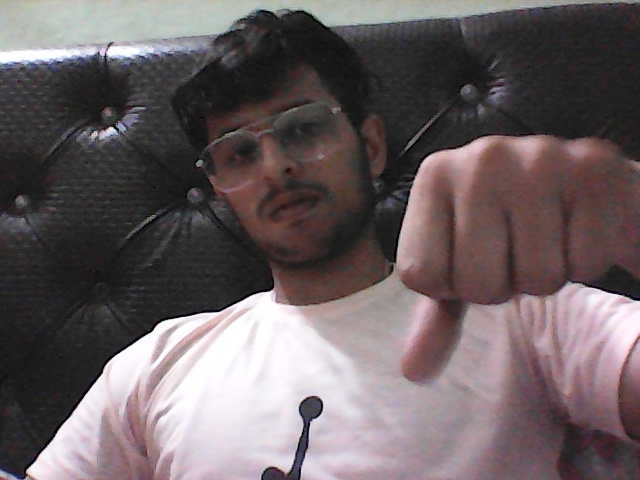yes: (364, 119, 640, 414)
